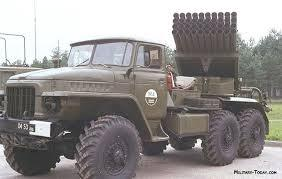MIL_SAM_TEL: (2, 10, 272, 175)
